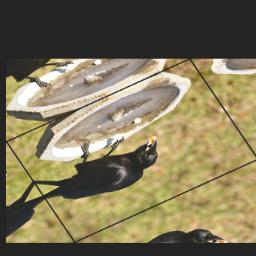Crow: (26, 116, 176, 219)
